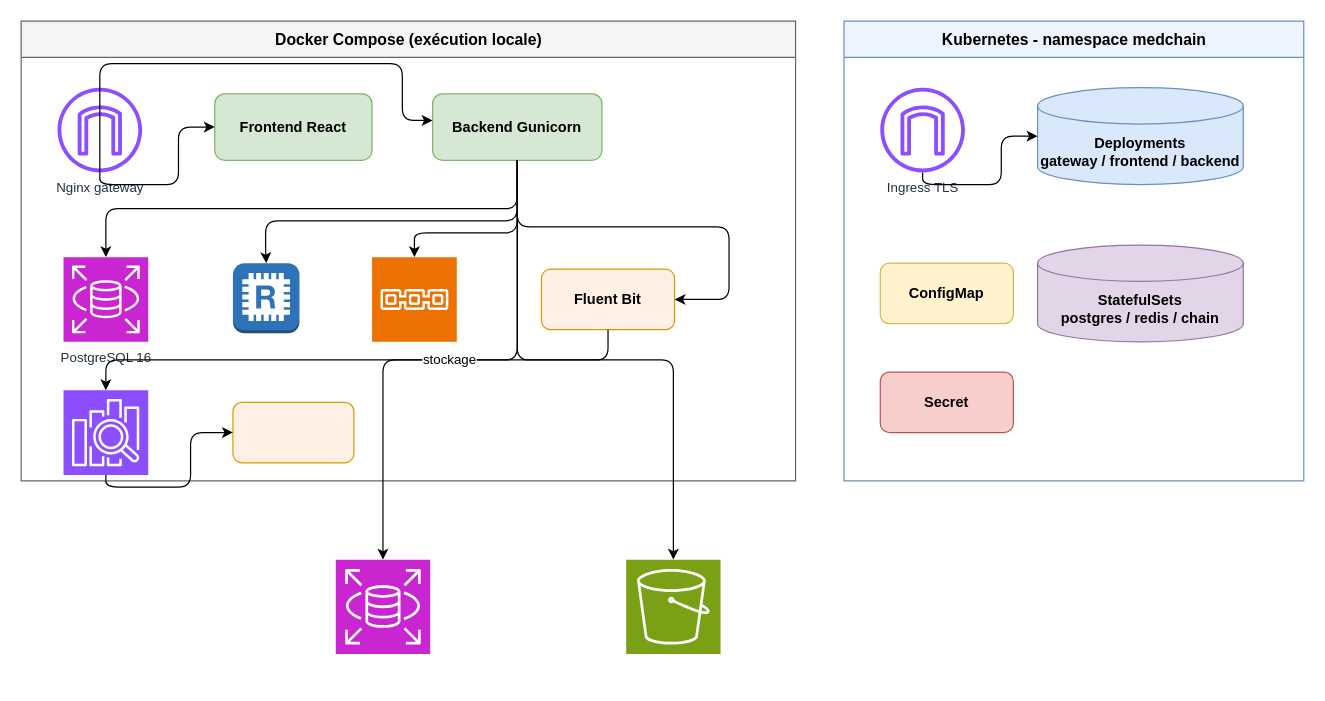
Some shapes in this 1325 by 701 pixel diagram are drawn without their labels. Each missing label, with the centre of its shape:
"Anvil EVM" goes at point (414, 299).
"Bucket S3 (stockage par défaut)" goes at point (673, 606).
"Elasticsearch" goes at point (105, 432).
"Kibana" goes at point (293, 432).
"RDS PostgreSQL (stockage par défaut)" goes at point (382, 606).
"Redis 7" goes at point (265, 297).
